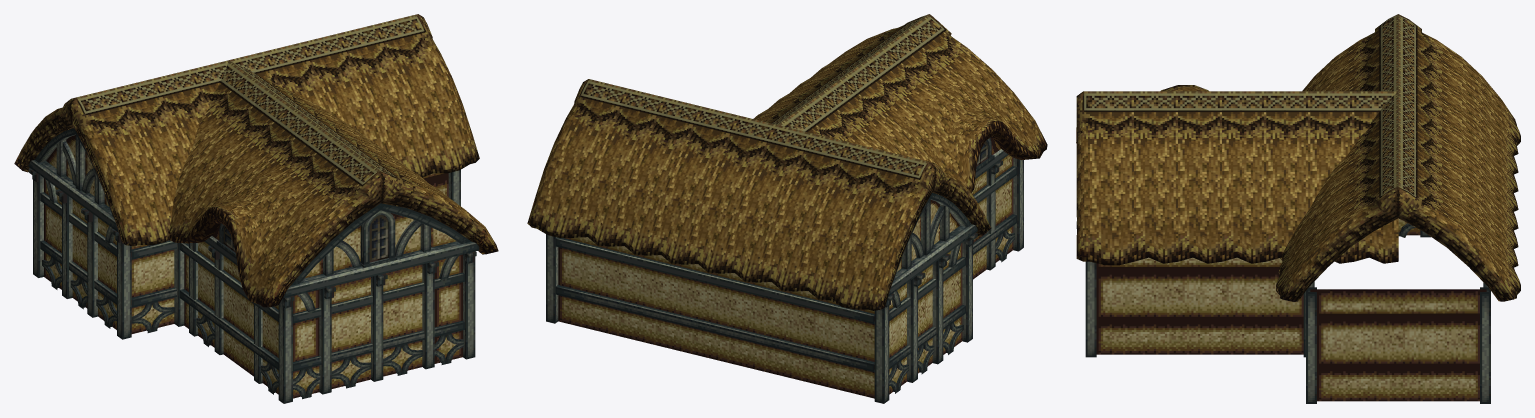
Rendered from EnvBdgMD_Forest_A_Outdoor_House_E.FBX.
3 views of the same model, side by side, from view 1: azimuth 30°, elevation 25°; view 2: azimuth 150°, elevation 25°; view 3: azimuth 270°, elevation 25° (orthographic). The views are drawn at different scales.
Parts seen in each view (by area): view 1: EnvBdgMD_Forest_A_Outdoor_House_E; view 2: EnvBdgMD_Forest_A_Outdoor_House_E; view 3: EnvBdgMD_Forest_A_Outdoor_House_E.
Part boxes in pixels (left/top/right/bottom): EnvBdgMD_Forest_A_Outdoor_House_E: left=14, top=14, right=498, bottom=403; EnvBdgMD_Forest_A_Outdoor_House_E: left=527, top=14, right=1047, bottom=403; EnvBdgMD_Forest_A_Outdoor_House_E: left=1076, top=14, right=1520, bottom=403.
Bounding box in the file's own units: 963 × 550 × 1009.
